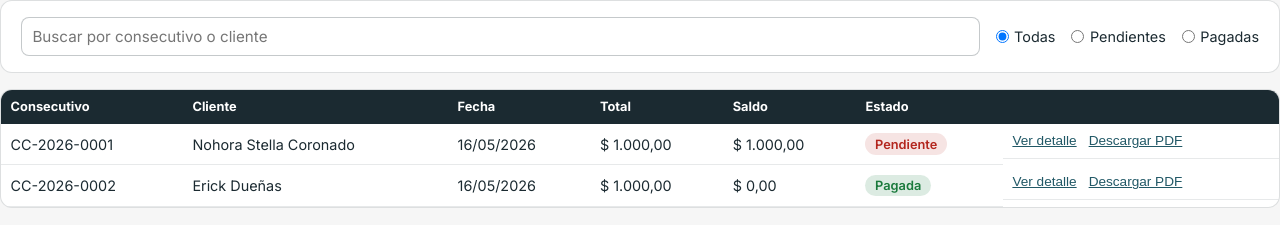
HistorialList › filtra por estado pendientes
expect the text "CC-2026-0001" is shown: met, box [1,124,183,165]
Click the text "Pendientes" at (1119, 36), box [1071,28,1166,45]
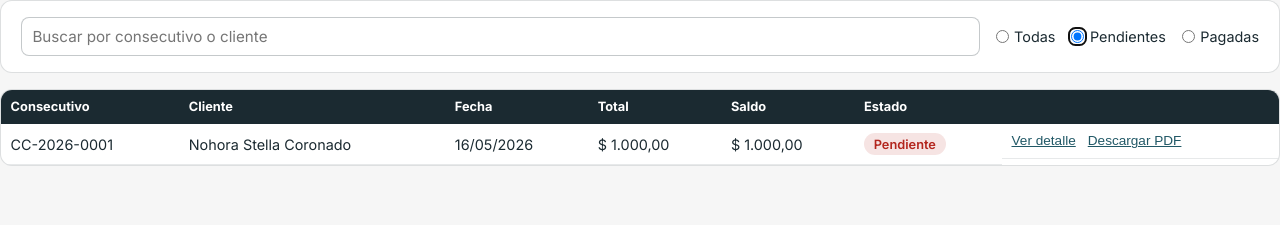
expect the text "CC-2026-0001" is shown: met, box [1,124,179,165]
expect the text "CC-2026-0002" is gone: met
